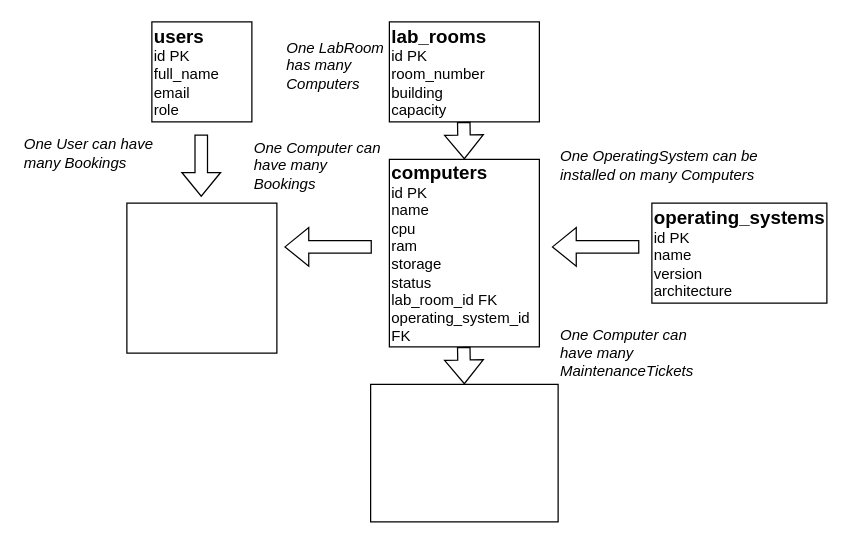
Some shapes in this 849 by 544 pixel diagram are drawn without their labels. Each missing label, with the centre of its shape:
"bookings id PK start_time end_time purpose status user_id FK computer_id FK" belongs at (x=201, y=277).
"maintenance_tickets id PK description priority status created_at computer_id FK" belongs at (x=463, y=452).
